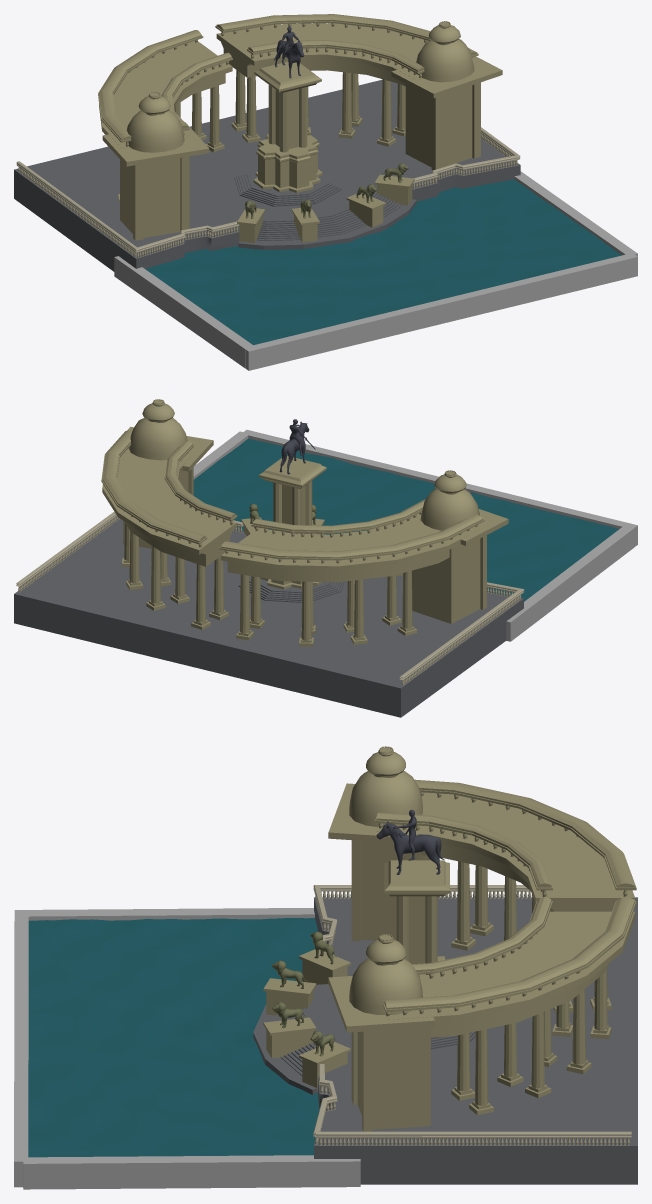
File: Parcela_Alfonso_XIII_Combined.fbx
The picture shows the model from 3 angles, top to bottom: view 1: azimuth 30°, elevation 25°; view 2: azimuth 150°, elevation 25°; view 3: azimuth 270°, elevation 25°; orthographic projection. The views are drawn at different scales.
Parts seen in each view (by area): view 1: Estatua_Alfonso_XIII_Combined; view 2: Estatua_Alfonso_XIII_Combined; view 3: Estatua_Alfonso_XIII_Combined.
Boxes of the visible parts, bbox=[...] form: Estatua_Alfonso_XIII_Combined: bbox=[14, 14, 637, 370]; Estatua_Alfonso_XIII_Combined: bbox=[14, 399, 637, 717]; Estatua_Alfonso_XIII_Combined: bbox=[14, 746, 637, 1189].
Size of the model in its own units: 2.47 by 1.12 by 2.54.
